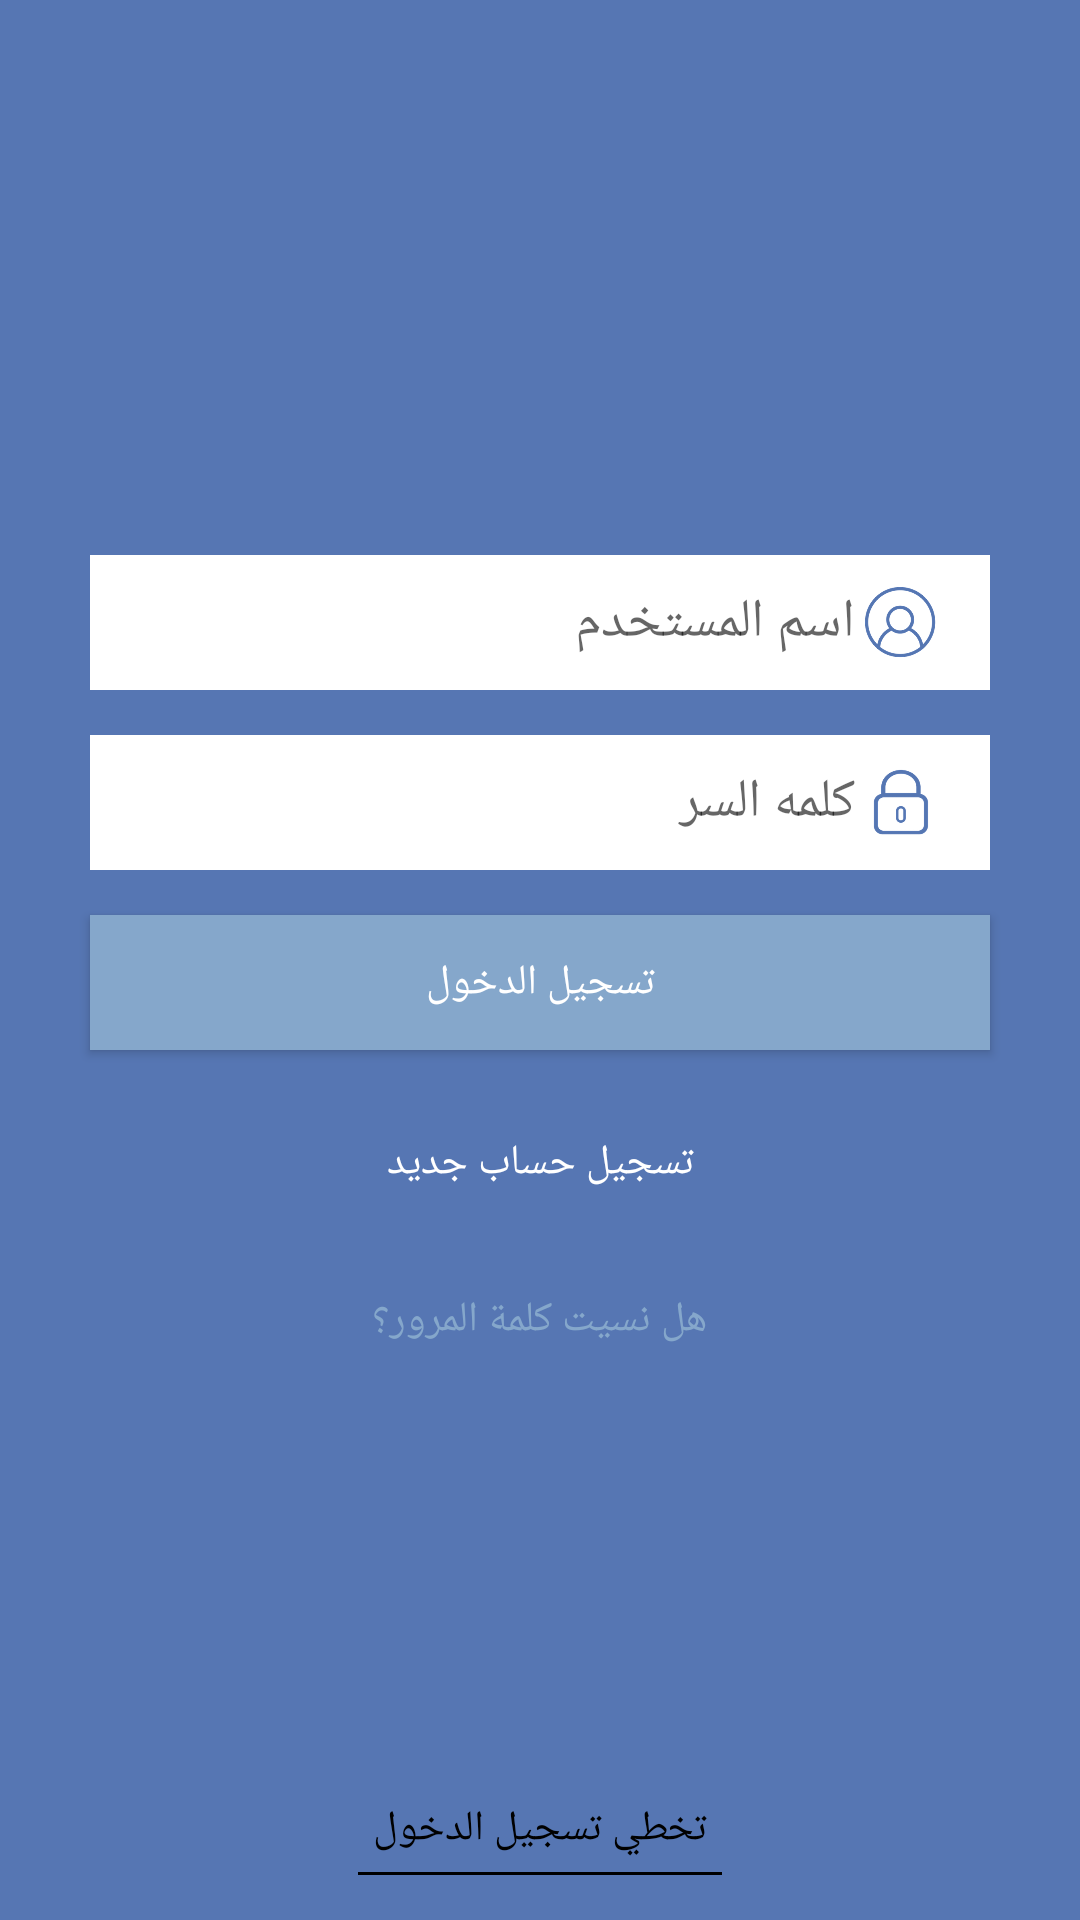

Named icons in this screenshot (1080*1920) and their bounding boxes, (x1, y1, x2, y2):
lock: (874, 770, 928, 835)
profile: (865, 587, 936, 657)
